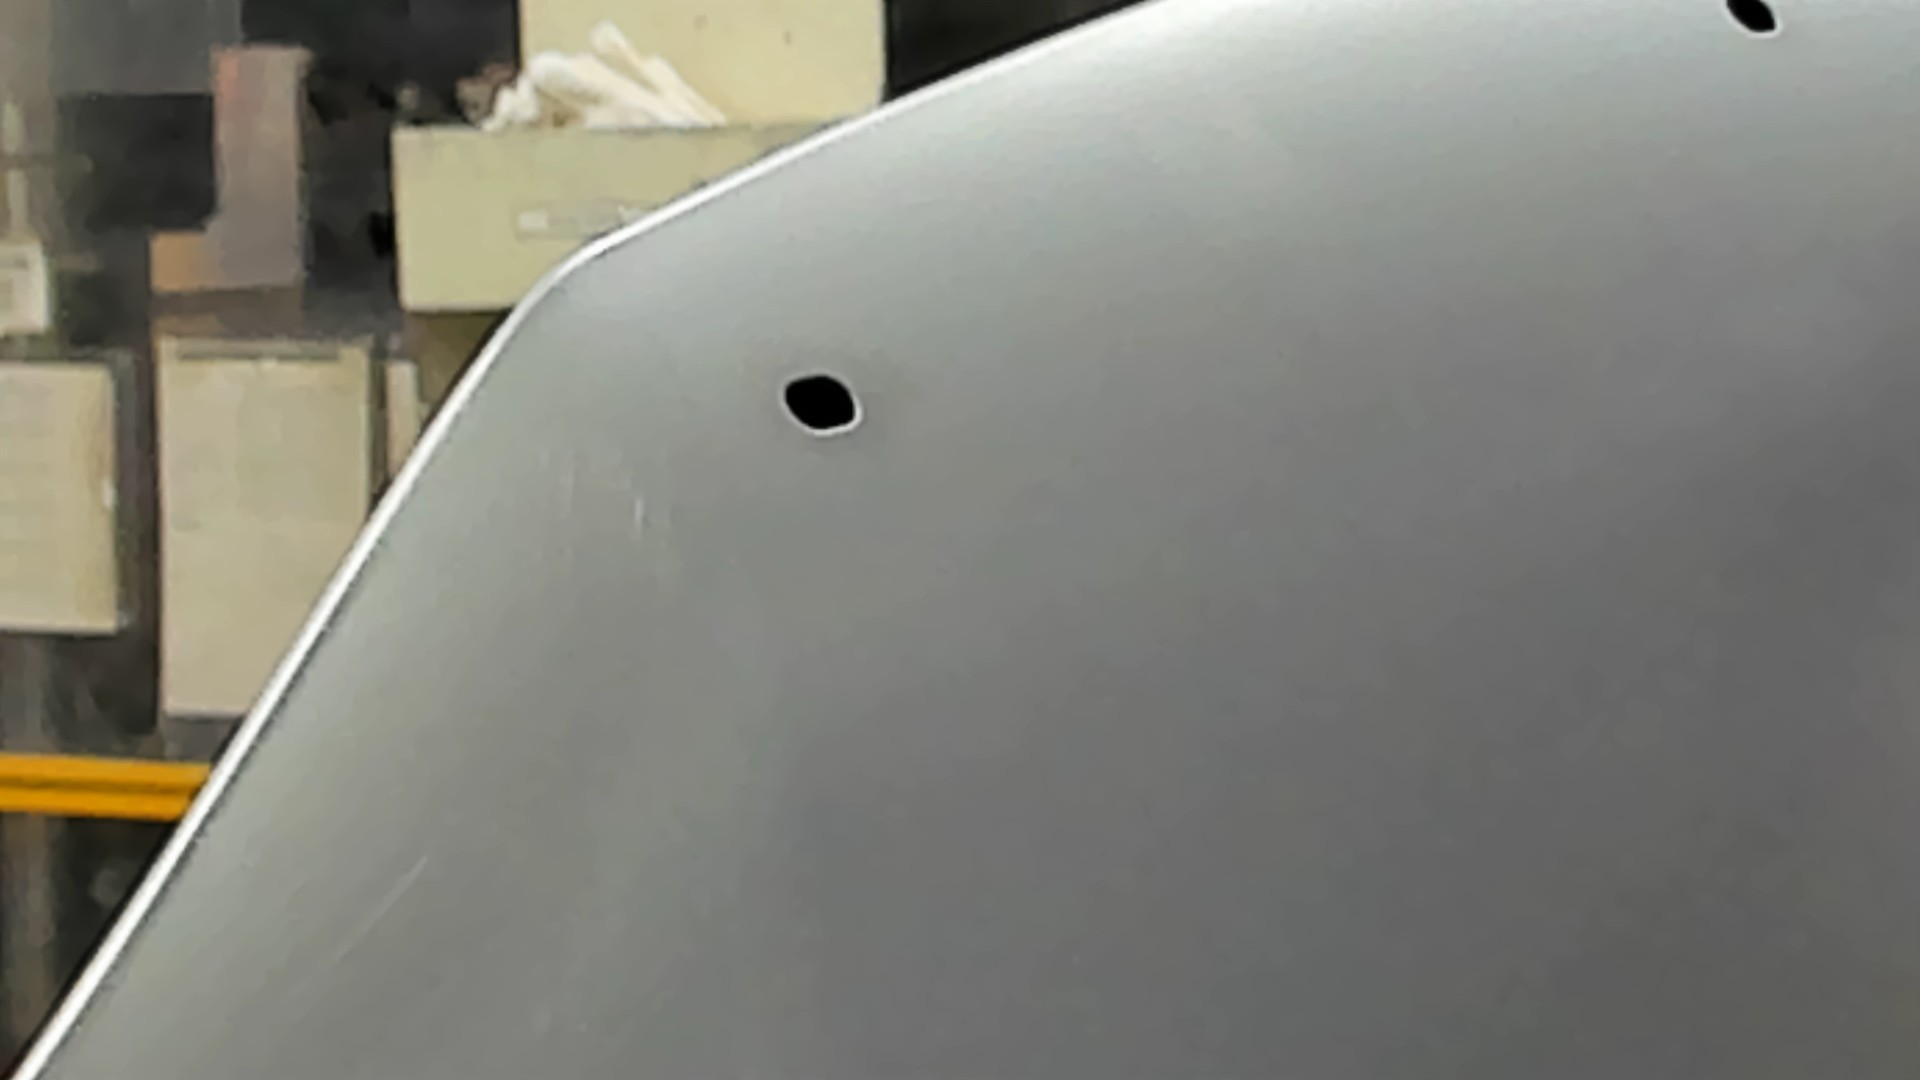amorfo: (774, 367, 869, 444), (1720, 1, 1791, 47)
capo: (956, 107, 1920, 1080)
